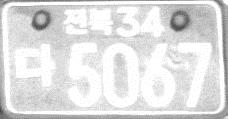0: (102, 43, 140, 109)
3: (115, 5, 141, 39)
4: (141, 6, 165, 39)
5: (64, 37, 101, 107)
6: (139, 40, 178, 109)
7: (175, 39, 214, 109)
다: (13, 41, 57, 89)
전북_O: (60, 6, 114, 37)
